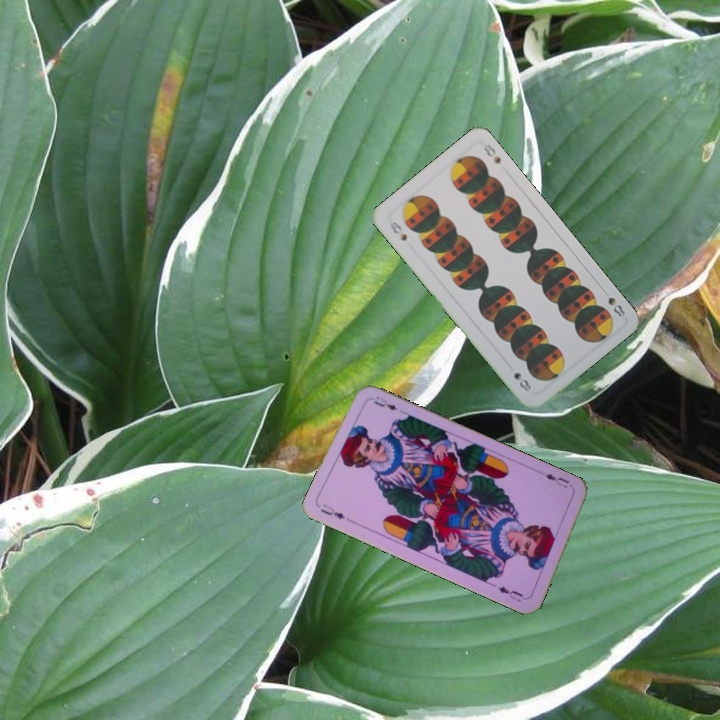EU: (317, 500, 348, 522), (541, 469, 571, 491)
S8: (598, 285, 628, 320), (385, 217, 410, 244)
